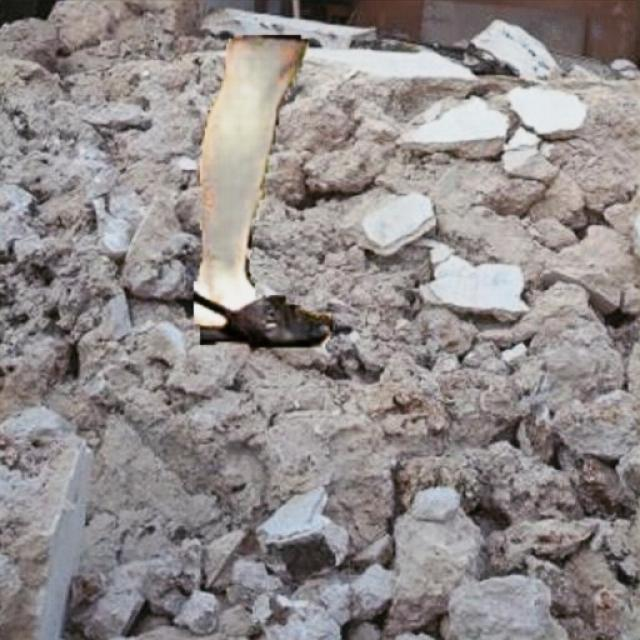Person in Rubble: (194, 35, 332, 346)
